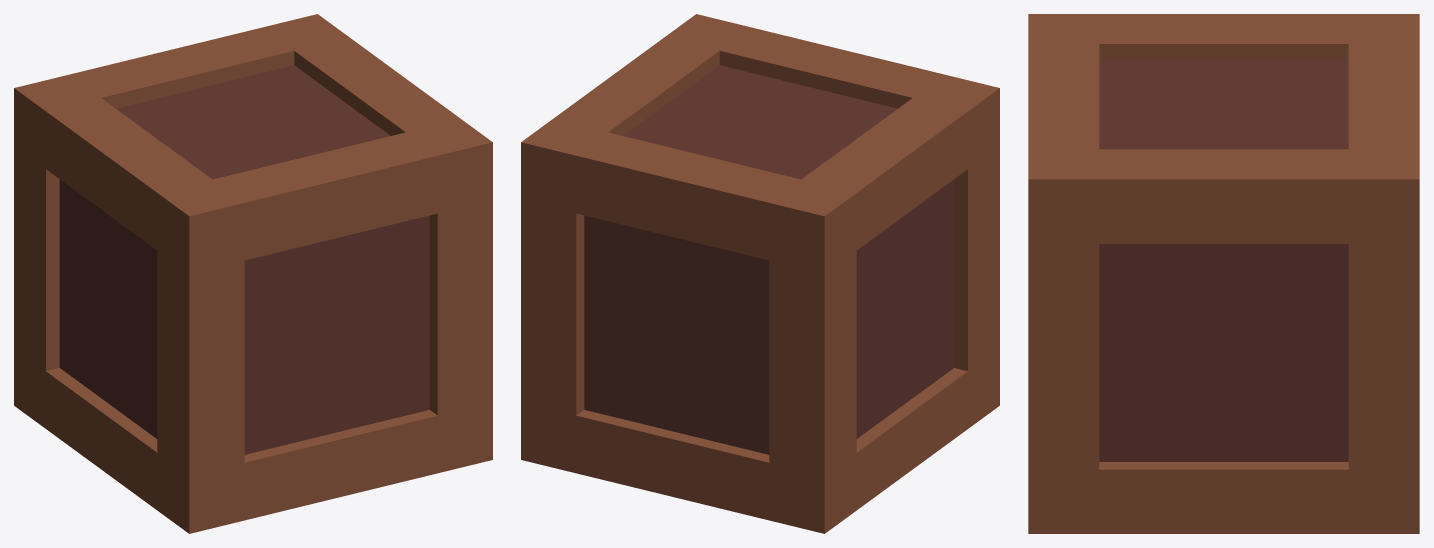
File: Wooden Box.fbx
3 views of the same model, side by side, from view 1: azimuth 30°, elevation 25°; view 2: azimuth 150°, elevation 25°; view 3: azimuth 270°, elevation 25° (orthographic). The views are drawn at different scales.
Visible parts, largest first — view 1: Box; view 2: Box; view 3: Box.
Part boxes in pixels (bbox=[...]): Box: bbox=[14, 14, 492, 533]; Box: bbox=[521, 14, 999, 533]; Box: bbox=[1028, 14, 1419, 533].
Size of the model in its own units: 0.264 by 0.264 by 0.264.
